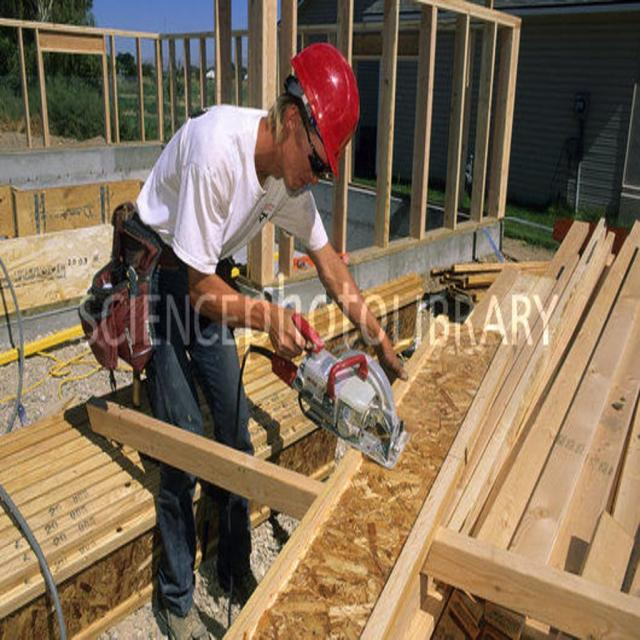nomask: (286, 115, 350, 194)
